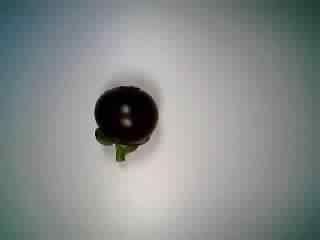mangosteen: (92, 82, 158, 165)
